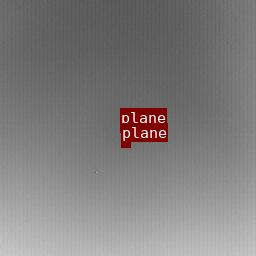plane: (120, 127, 133, 132), (121, 142, 130, 146)
